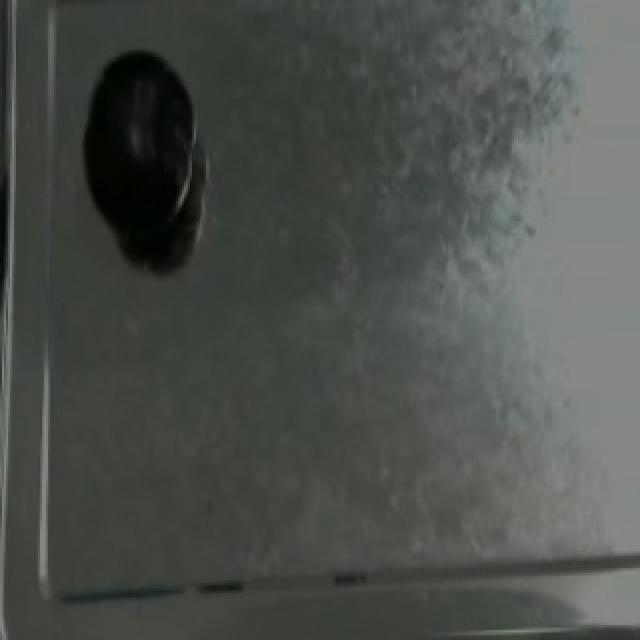Fruit: (76, 42, 200, 241)
